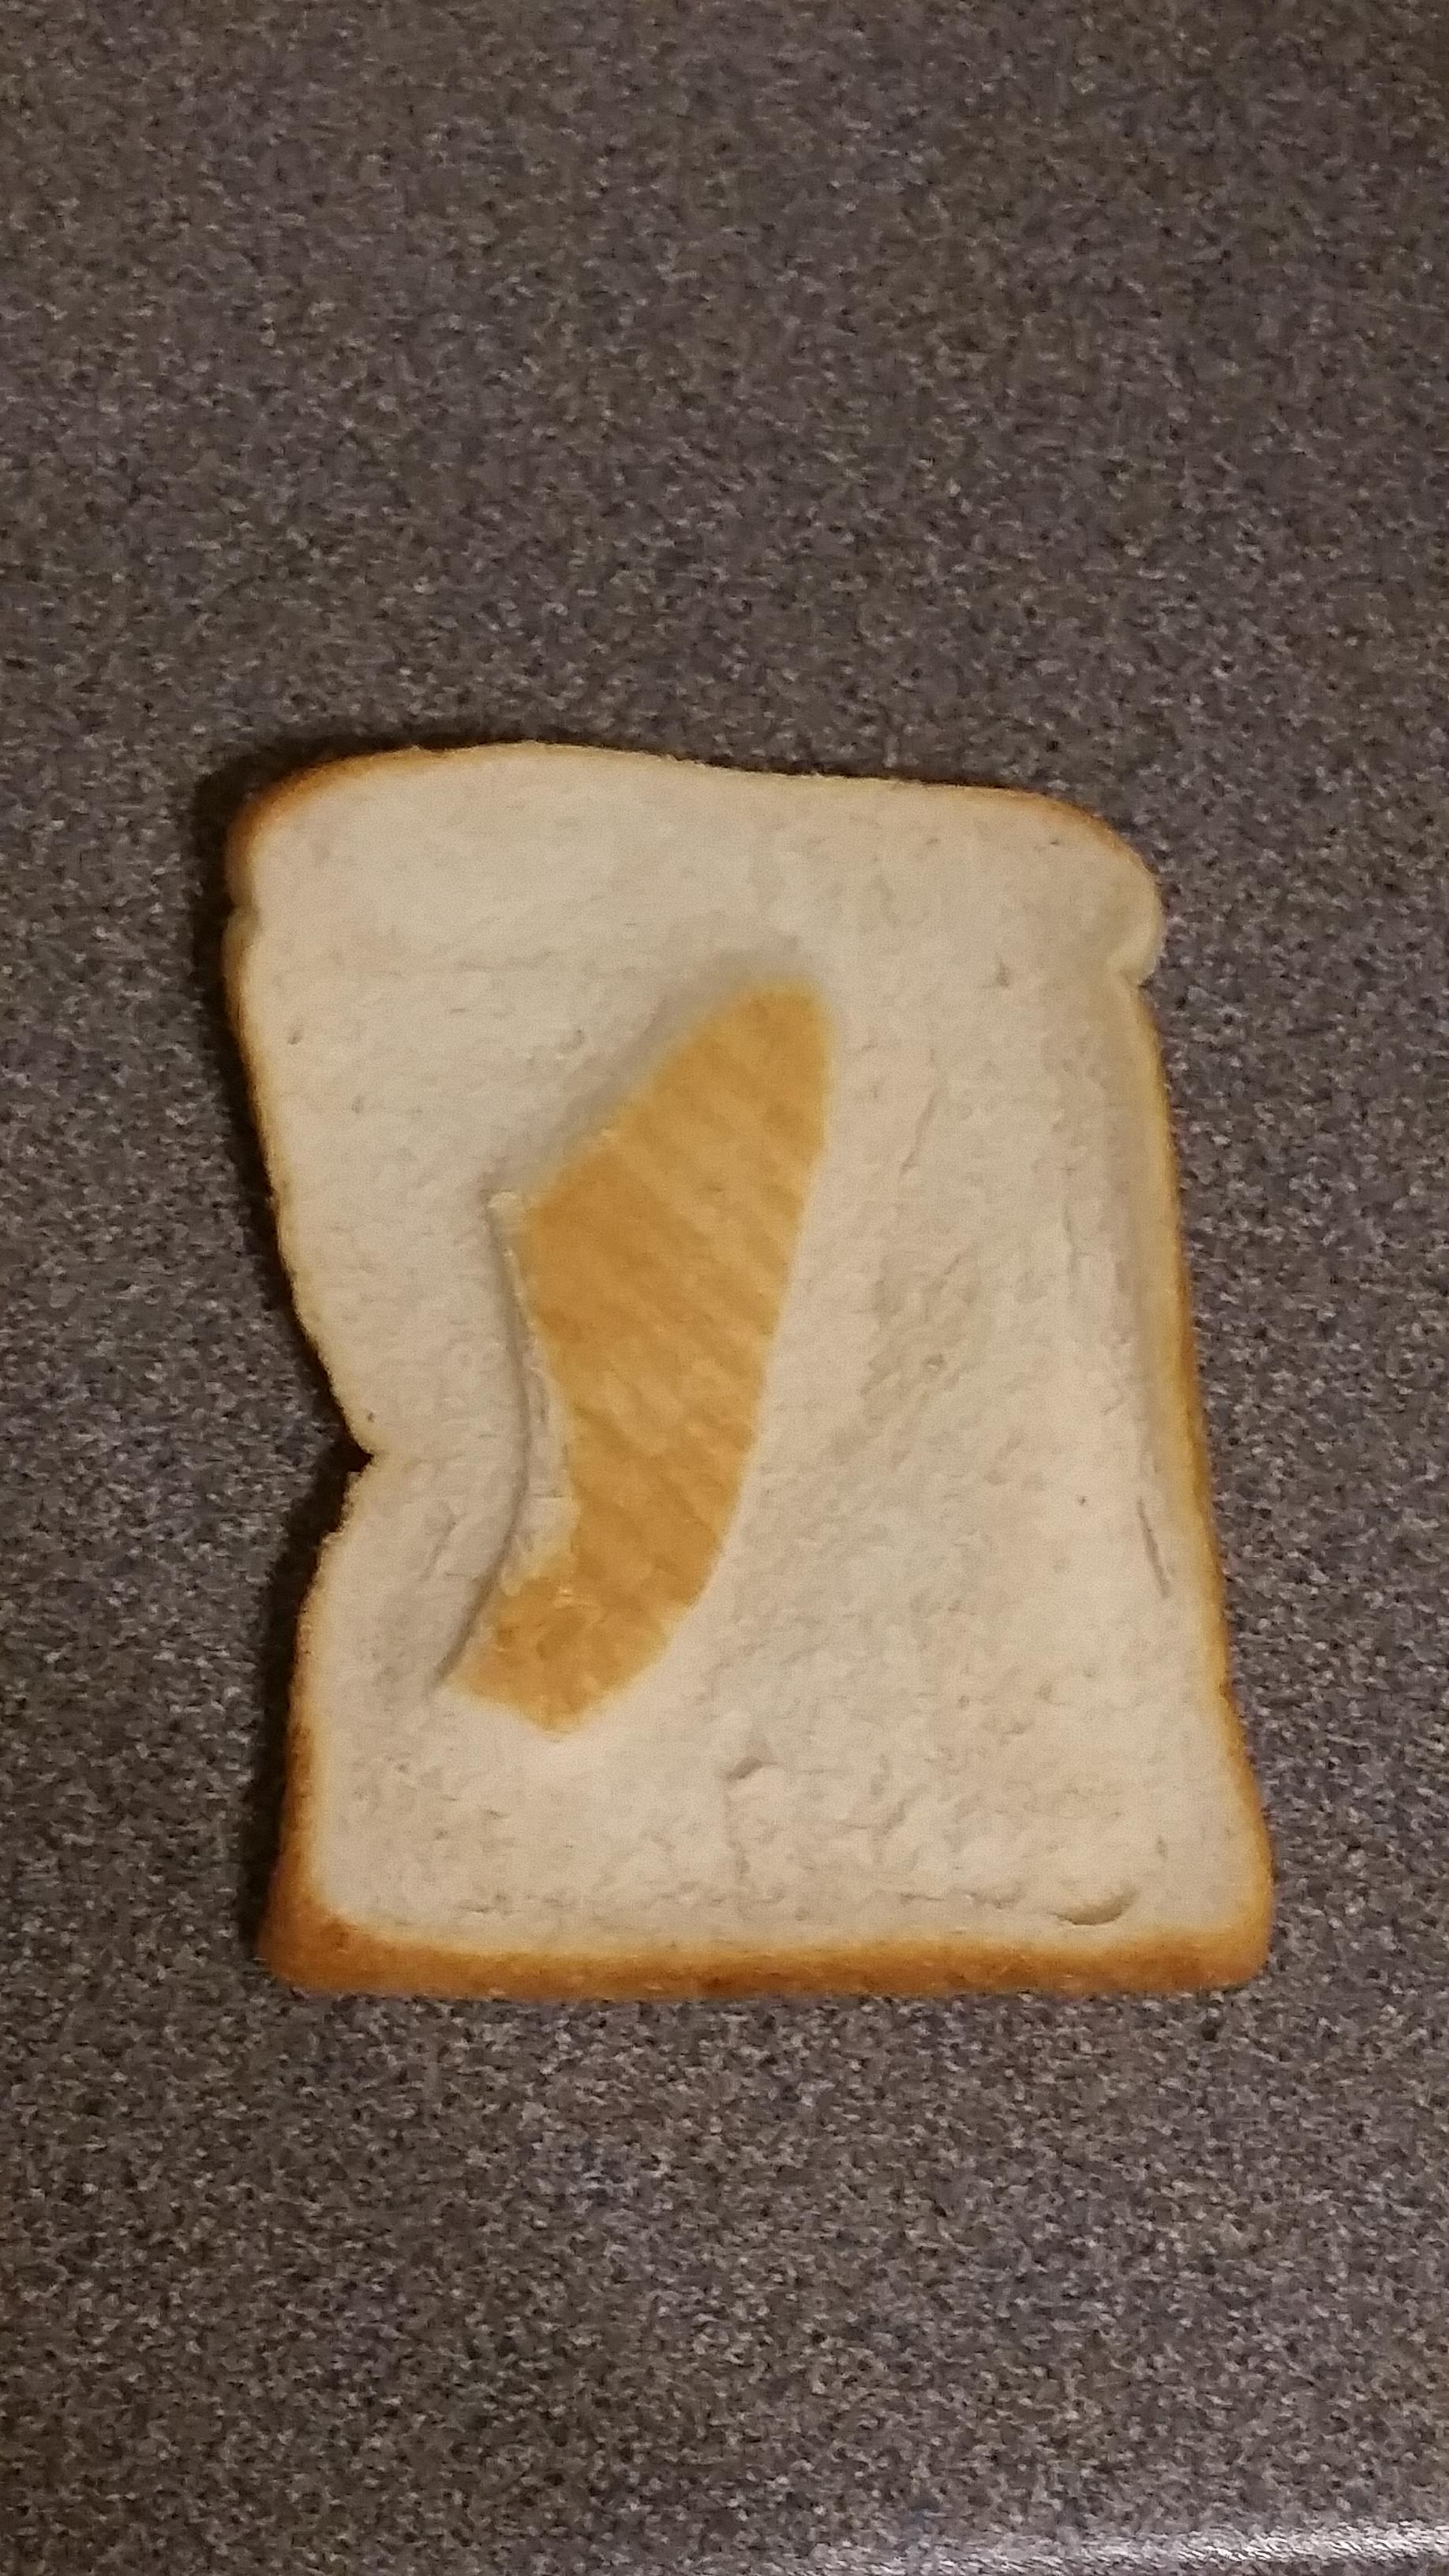slice of bread: (280, 789, 1265, 2022)
